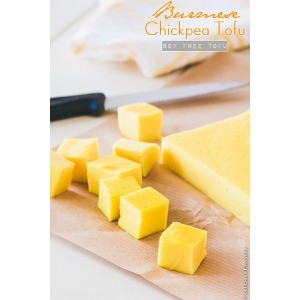tofu_brain food: (110, 103, 164, 169), (115, 191, 160, 234), (168, 224, 203, 273)
